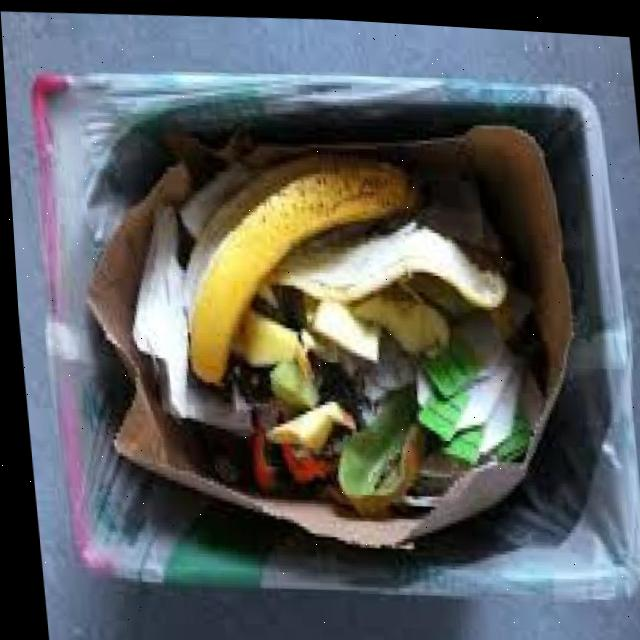Wet: (56, 76, 615, 588)
